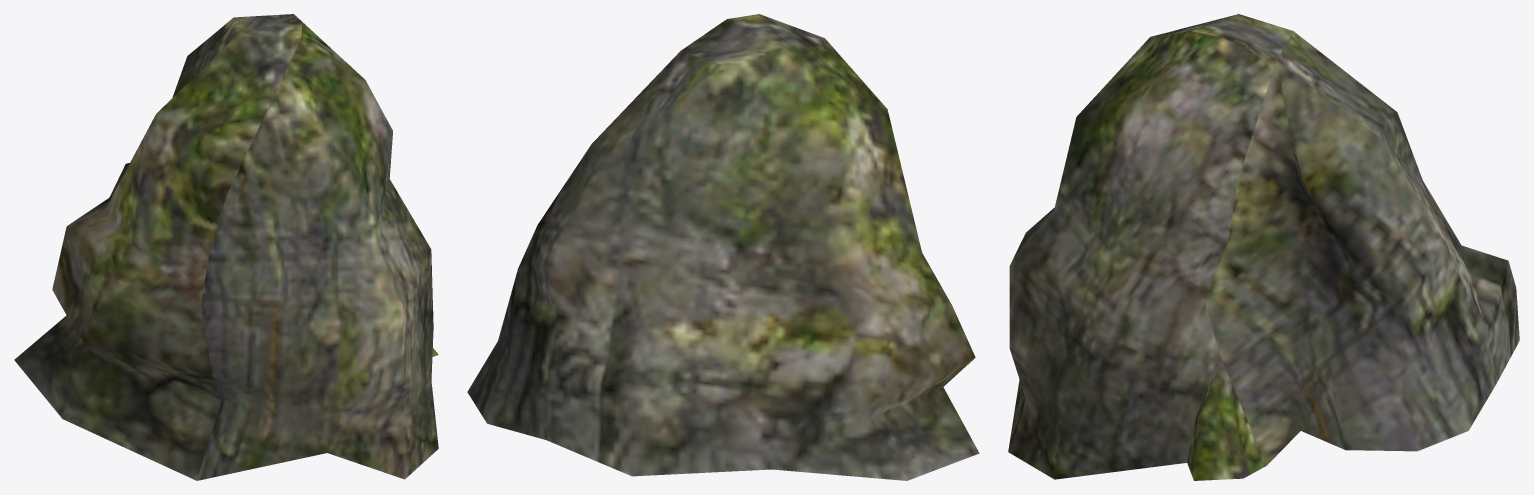
File: S_Rock_Green023_A2.FBX
3 renders of one model, left to right at view 1: azimuth 30°, elevation 25°; view 2: azimuth 150°, elevation 25°; view 3: azimuth 270°, elevation 25°, orthographic. The views are drawn at different scales.
Visible parts, largest first — view 1: S_Rock_Green023_A2; view 2: S_Rock_Green023_A2; view 3: S_Rock_Green023_A2.
Boxes of the visible parts, x1=… form: S_Rock_Green023_A2: x1=14, y1=14, x2=438, y2=480; S_Rock_Green023_A2: x1=467, y1=14, x2=979, y2=480; S_Rock_Green023_A2: x1=1008, y1=14, x2=1519, y2=480.
Size of the model in its own units: 268 by 255 by 286.
